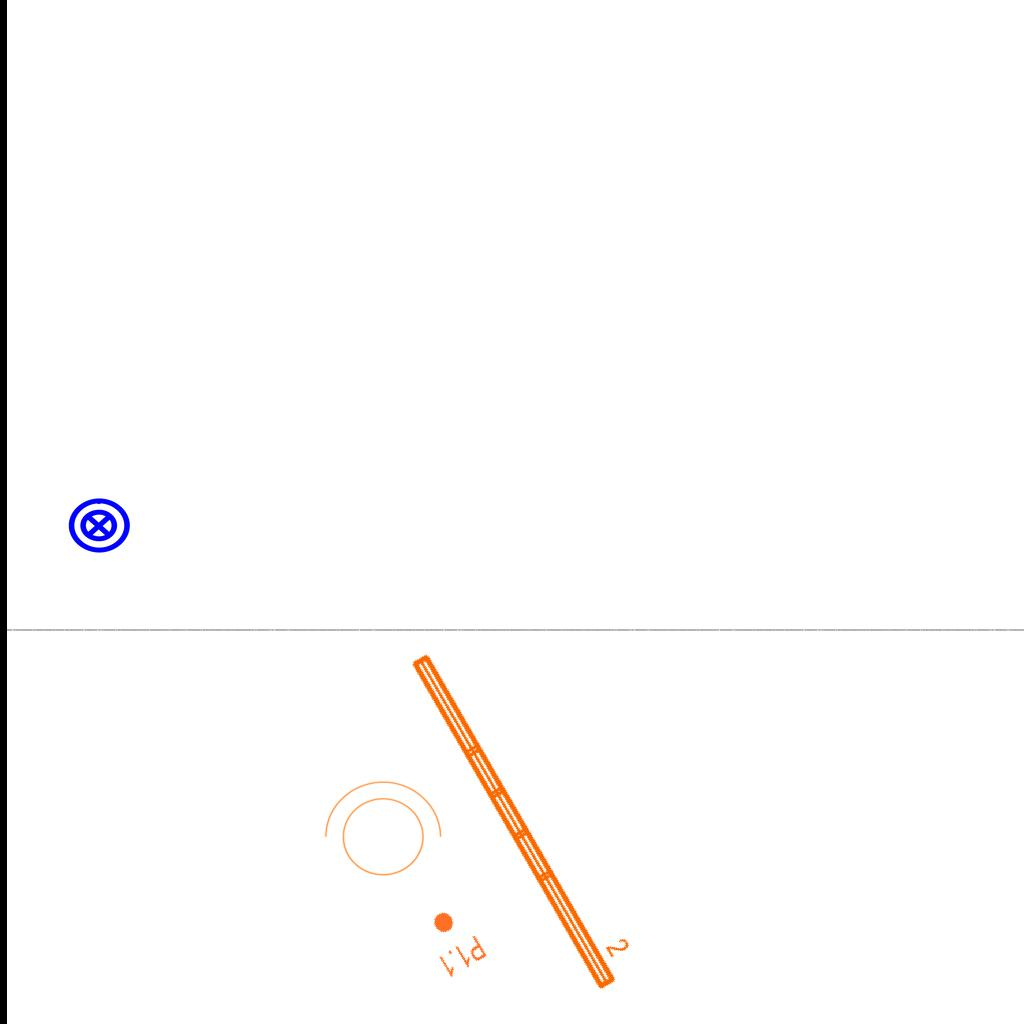Ambulanz_Pendelleuchte_LED: (403, 633, 646, 997)
Downlight_LED_Einbauleuchten_Flur: (416, 901, 490, 981)
Scheinwerfer_fuer_Alarmbeleuchtung: (314, 776, 446, 888)
Taster_beleuchtet: (66, 493, 132, 559)
